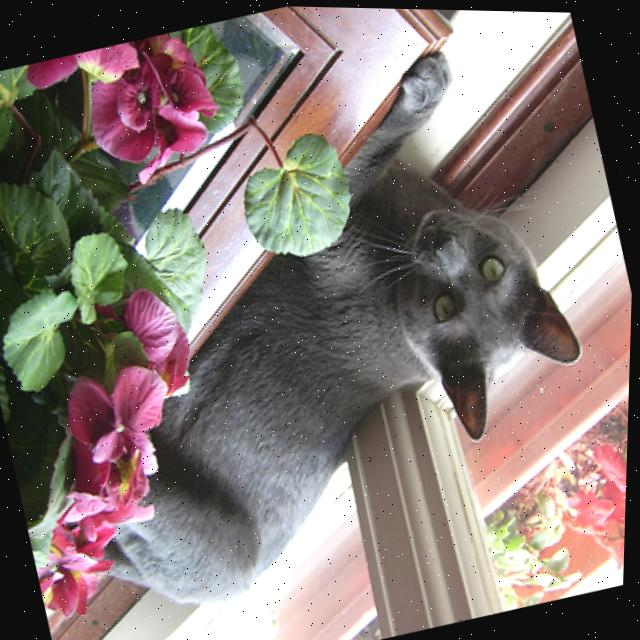Russian Blue: (0, 18, 635, 640)
